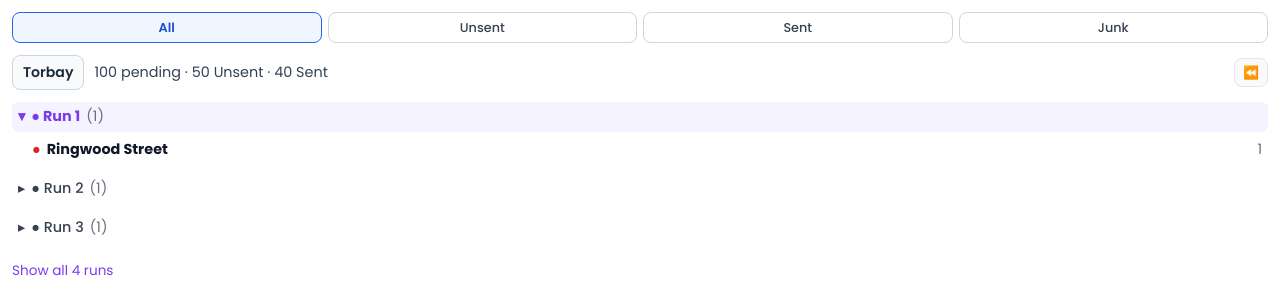
OutreachMapSidebar › hides the Show all button after revealing all runs
This screenshot has width=1280, height=298.
Click the button "Show all 4 runs".
click(63, 271)  # box [12,261,113,281]
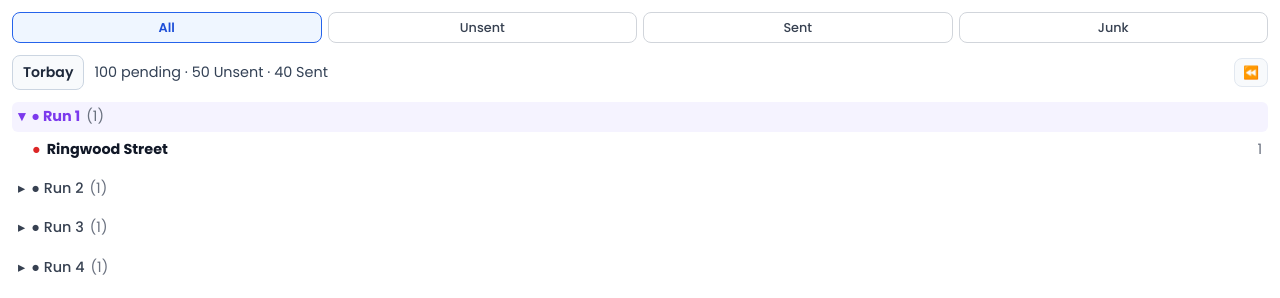
Check: the button "Show all 4 runs" is gone
